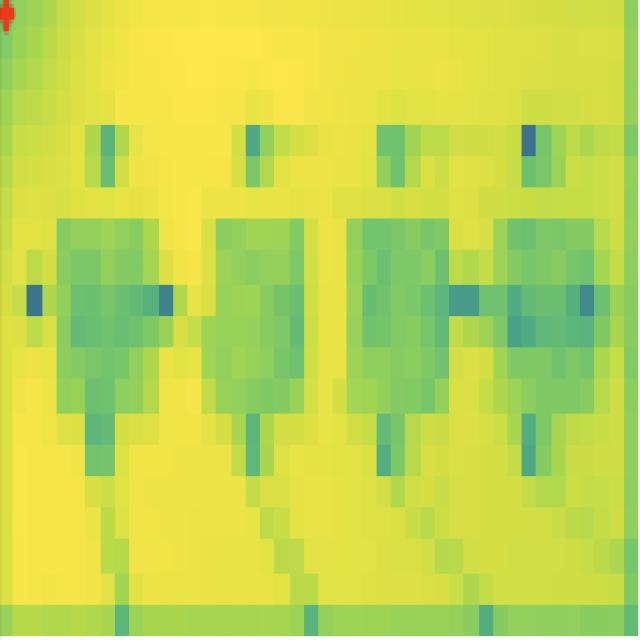Concrete: (198, 192, 318, 433)
Glass: (46, 202, 163, 443)
Metal: (337, 187, 452, 433)
Wood: (481, 182, 607, 427)
